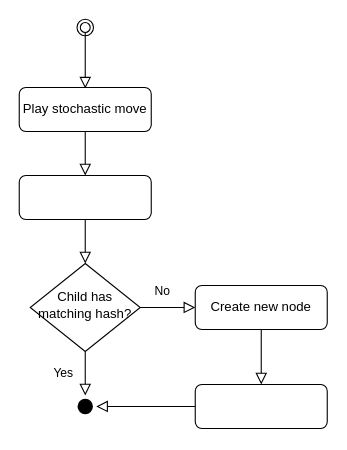
Some shapes in this 347 by 450 pixel diagram are drawn without their labels. The shapes that lost their labels are listed below. From the top down, each one's centre as x and y in pixels, then its label:
the point at 84,196: Get resulting state hash
the point at 260,405: Add to parent
